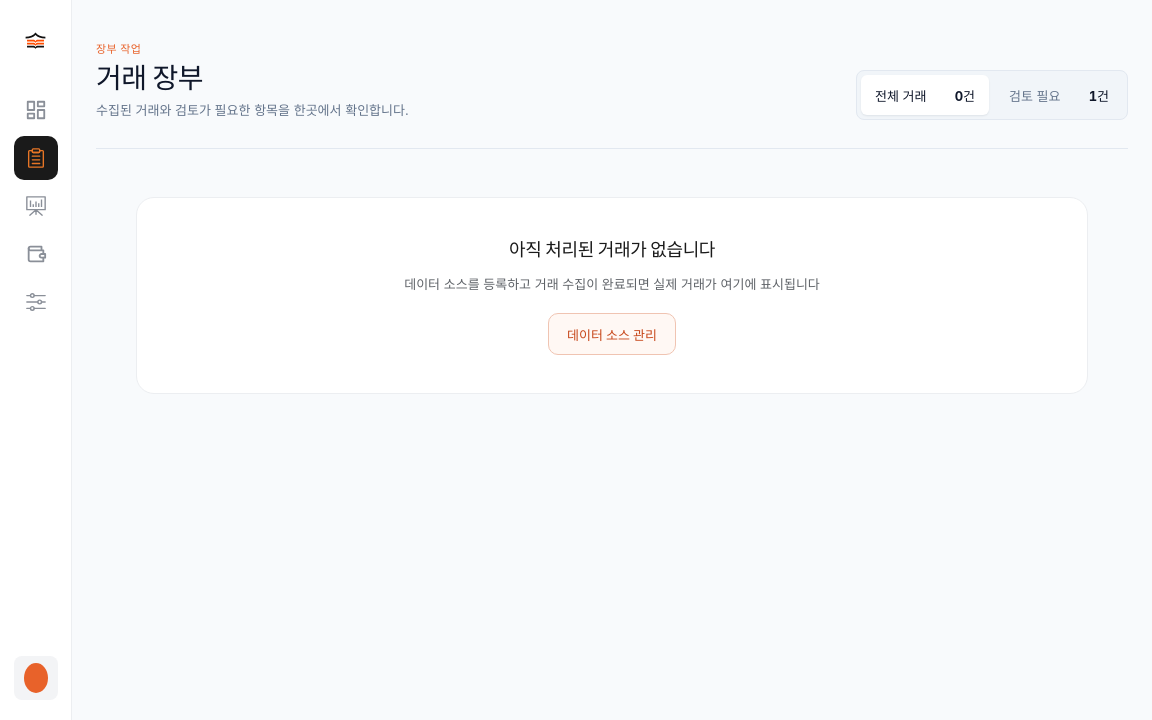
Test: LedgerPage › identifies an Upbit withdrawal and formats its KRW amount for review
The width and height of the screenshot is (1152, 720).
Step 1. Click the button "검토 필요 1건" → (1059, 95), box [995, 75, 1123, 115]
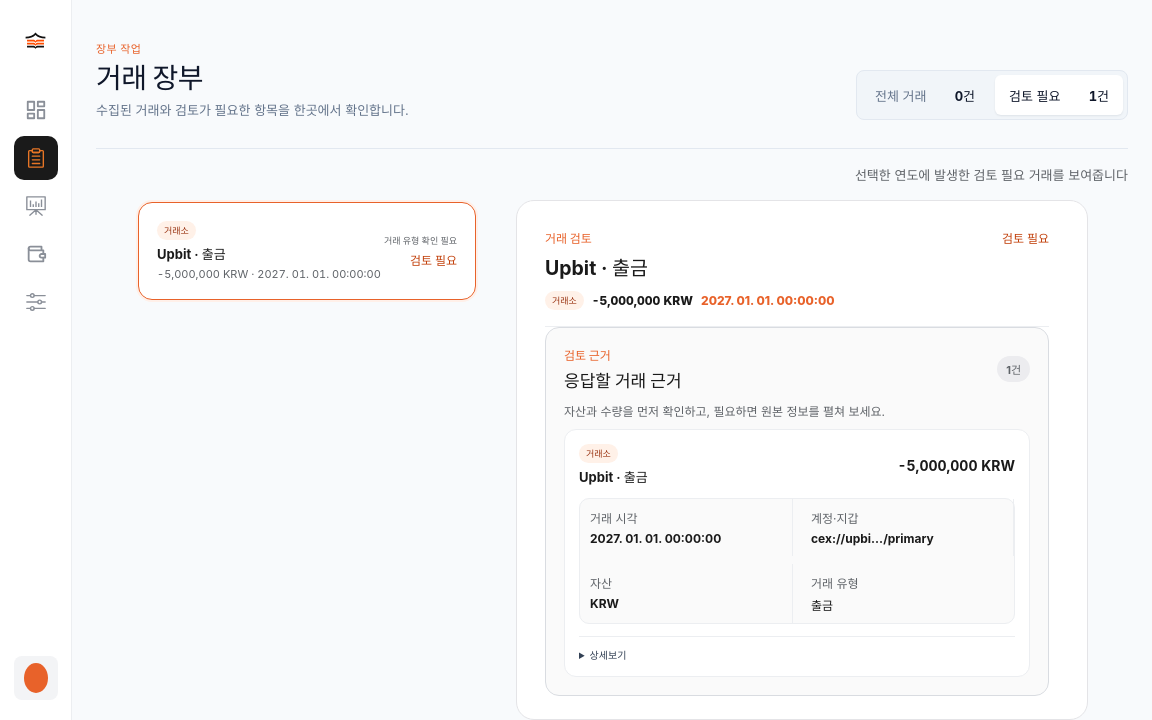
Check: the heading "Upbit · 출금" is shown, box [545, 256, 648, 280]
Check: the button "Upbit · 출금" shows "-5,000,000 KRW", box [138, 202, 476, 300]
Check: the text "-5,000,000 KRW" is shown 2 times, box [592, 293, 693, 308]; [898, 456, 1015, 474]
